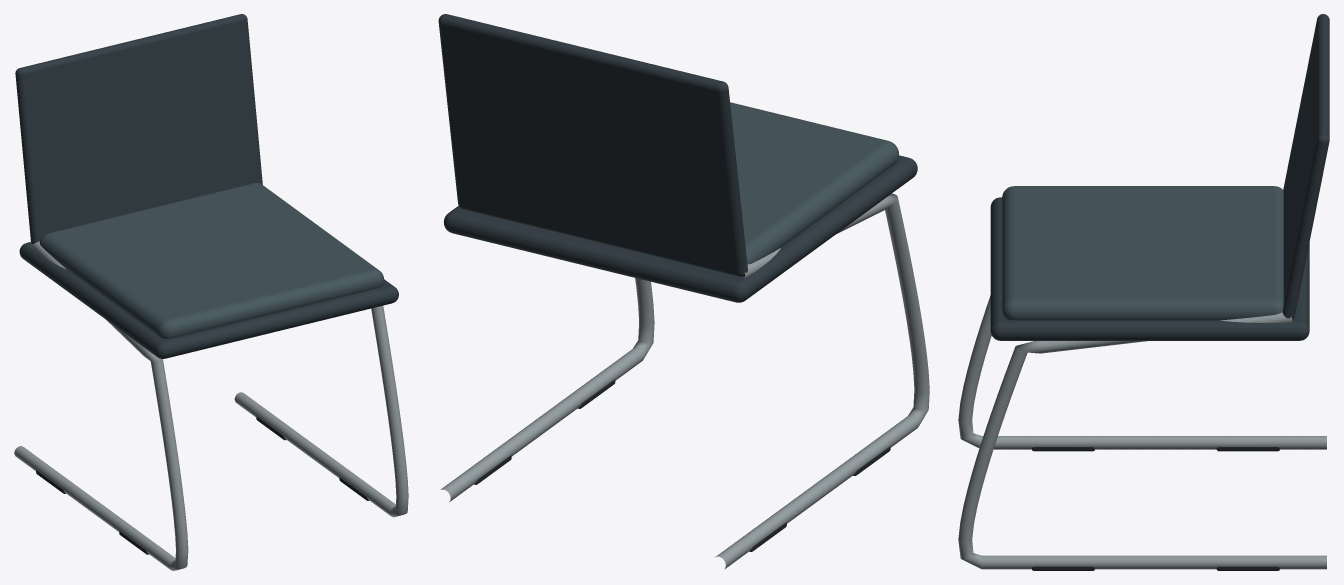
Rendered from atelier-sidechair-graphite.glb.
3 renders of one model, left to right at view 1: azimuth 30°, elevation 25°; view 2: azimuth 150°, elevation 25°; view 3: azimuth 270°, elevation 25°, orthographic. The views are drawn at different scales.
Visible parts, largest first — view 1: mesh_9, mesh_8, mesh_7, mesh_0, mesh_3; view 2: mesh_9, mesh_8, mesh_7, mesh_0, mesh_3; view 3: mesh_8, mesh_3, mesh_7, mesh_9, mesh_0.
Boxes of the visible parts, <box> form: mesh_9: <box>15,14,262,243</box>; mesh_8: <box>39,183,383,338</box>; mesh_7: <box>19,242,398,358</box>; mesh_0: <box>14,241,188,570</box>; mesh_3: <box>234,305,408,517</box>; mesh_9: <box>438,14,747,276</box>; mesh_8: <box>730,102,898,264</box>; mesh_7: <box>444,155,917,302</box>; mesh_0: <box>715,193,929,569</box>; mesh_3: <box>440,278,654,502</box>; mesh_8: <box>1002,186,1283,320</box>; mesh_3: <box>958,312,1326,569</box>; mesh_7: <box>990,197,1309,340</box>; mesh_9: <box>1282,14,1329,319</box>; mesh_0: <box>958,295,1326,449</box>.
Bounding box in the file's own units: 0.5076 × 0.7797 × 0.6039.
